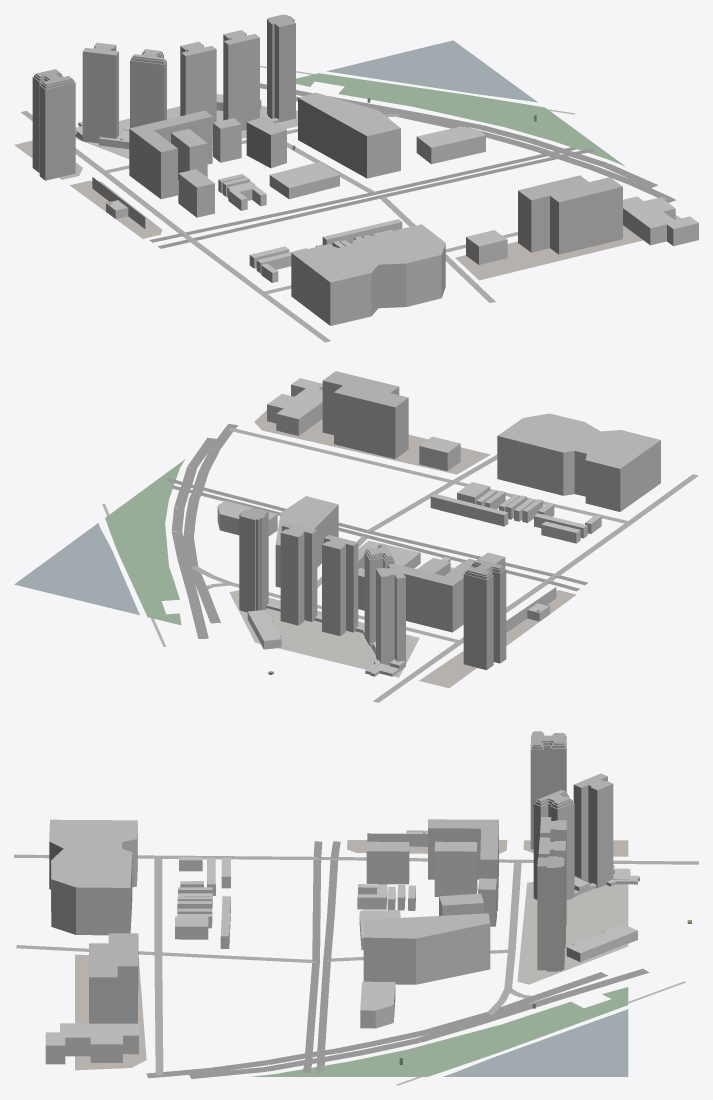
The picture shows the model from 3 angles, top to bottom: view 1: azimuth 30°, elevation 25°; view 2: azimuth 150°, elevation 25°; view 3: azimuth 270°, elevation 25°; orthographic projection. The views are drawn at different scales.
Size of the model in its own units: 534 by 106 by 619.
